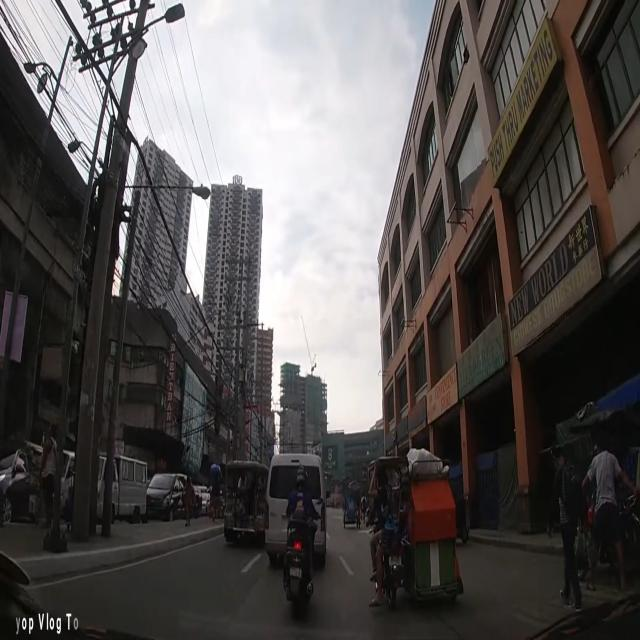car: (266, 452, 326, 570), (1, 446, 36, 524), (146, 472, 188, 522), (58, 448, 76, 524)
jeepney: (220, 460, 270, 550)
motorcycle: (286, 466, 324, 614)
tricycle: (368, 454, 464, 608), (571, 442, 640, 584), (343, 492, 362, 532)
truck: (96, 452, 148, 522)
